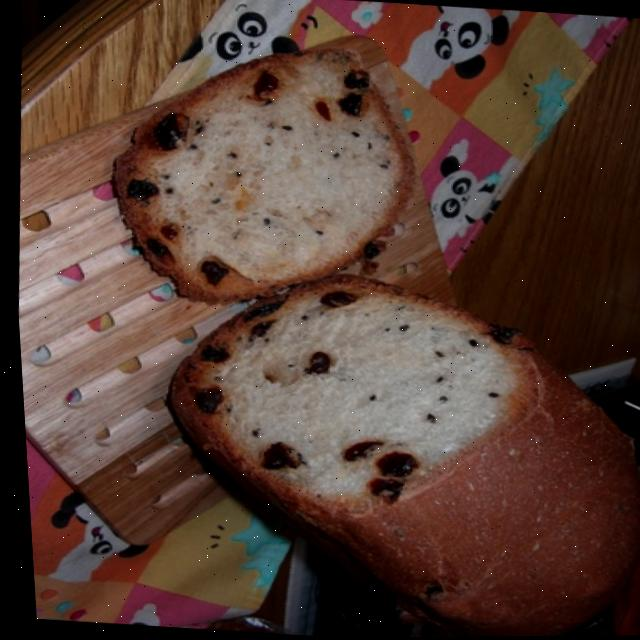面包点心: (92, 36, 640, 639)
